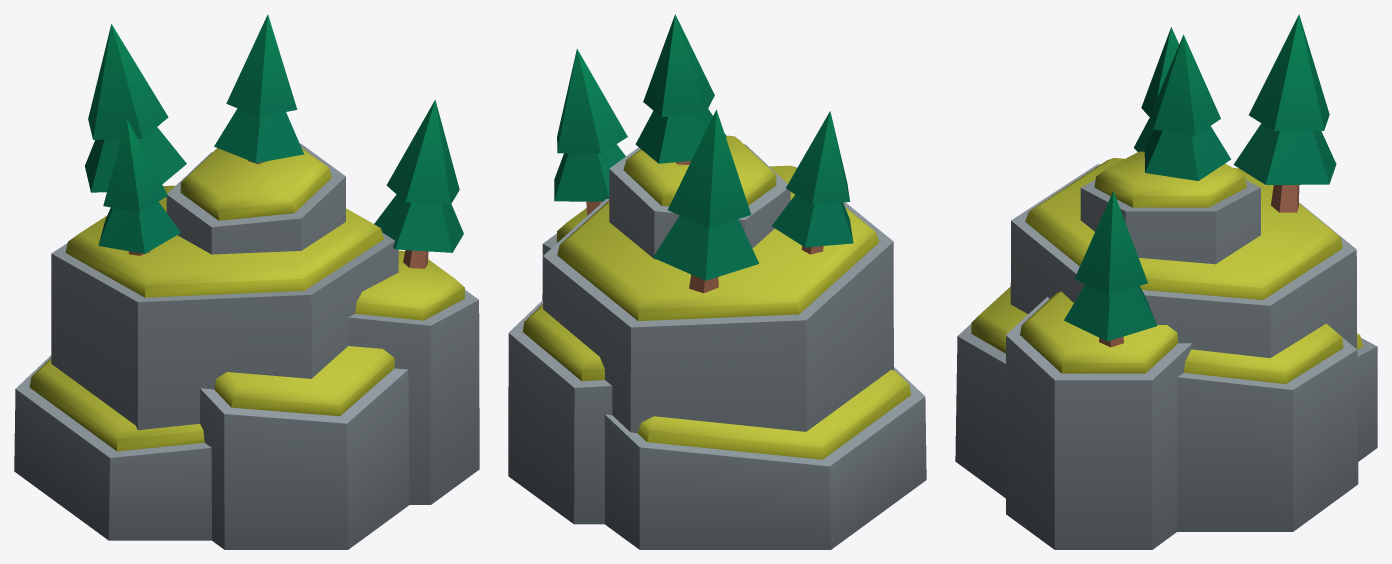
The model's file is mountain_A_grass_trees.glb.
3 renders of one model, left to right at view 1: azimuth 30°, elevation 25°; view 2: azimuth 150°, elevation 25°; view 3: azimuth 270°, elevation 25°, orthographic.
Visible parts, largest first — view 1: mountain_A_grass_trees; view 2: mountain_A_grass_trees; view 3: mountain_A_grass_trees.
Boxes of the visible parts, <box> form: mountain_A_grass_trees: <box>14,14,479,549</box>; mountain_A_grass_trees: <box>508,14,926,549</box>; mountain_A_grass_trees: <box>955,14,1377,549</box>.
Size of the model in its own units: 1.86 by 2.18 by 1.88.
Materials: 1 (1 with a texture image).
